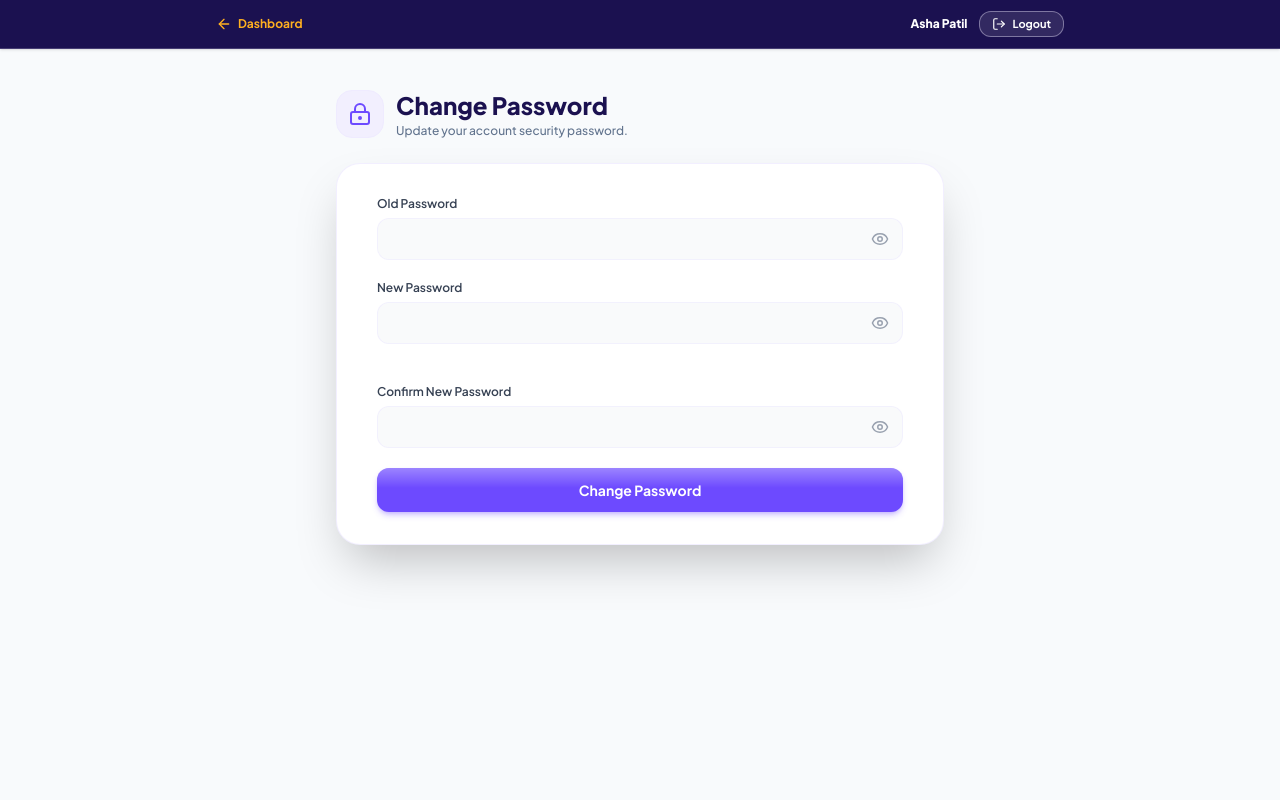
it: ChangePassword › shows an error dialog when the mutation fails
Step 1. Type "old-password" into the password field labelled "Old Password" → coordinates (640, 239), box [377, 218, 903, 260]
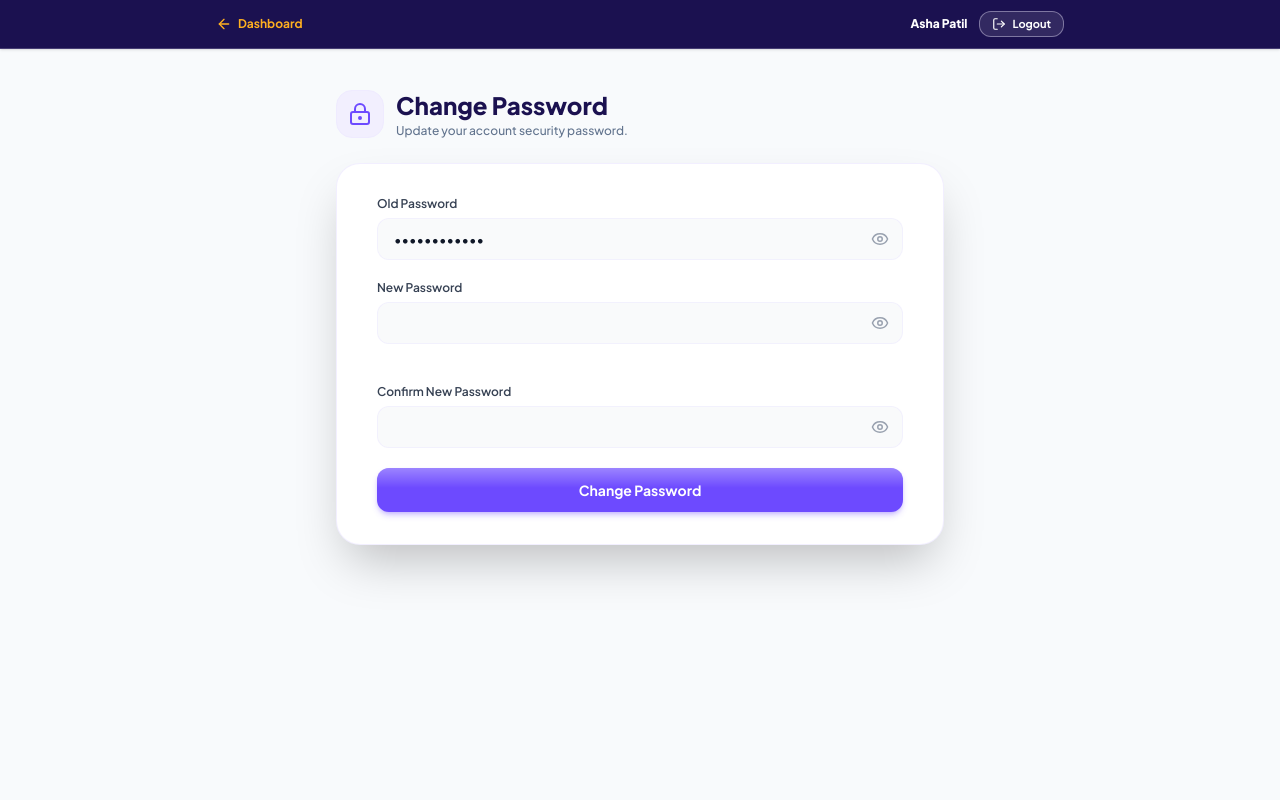
Step 2. Type "Strong1!" into the password field labelled "New Password" → coordinates (640, 323), box [377, 302, 903, 344]
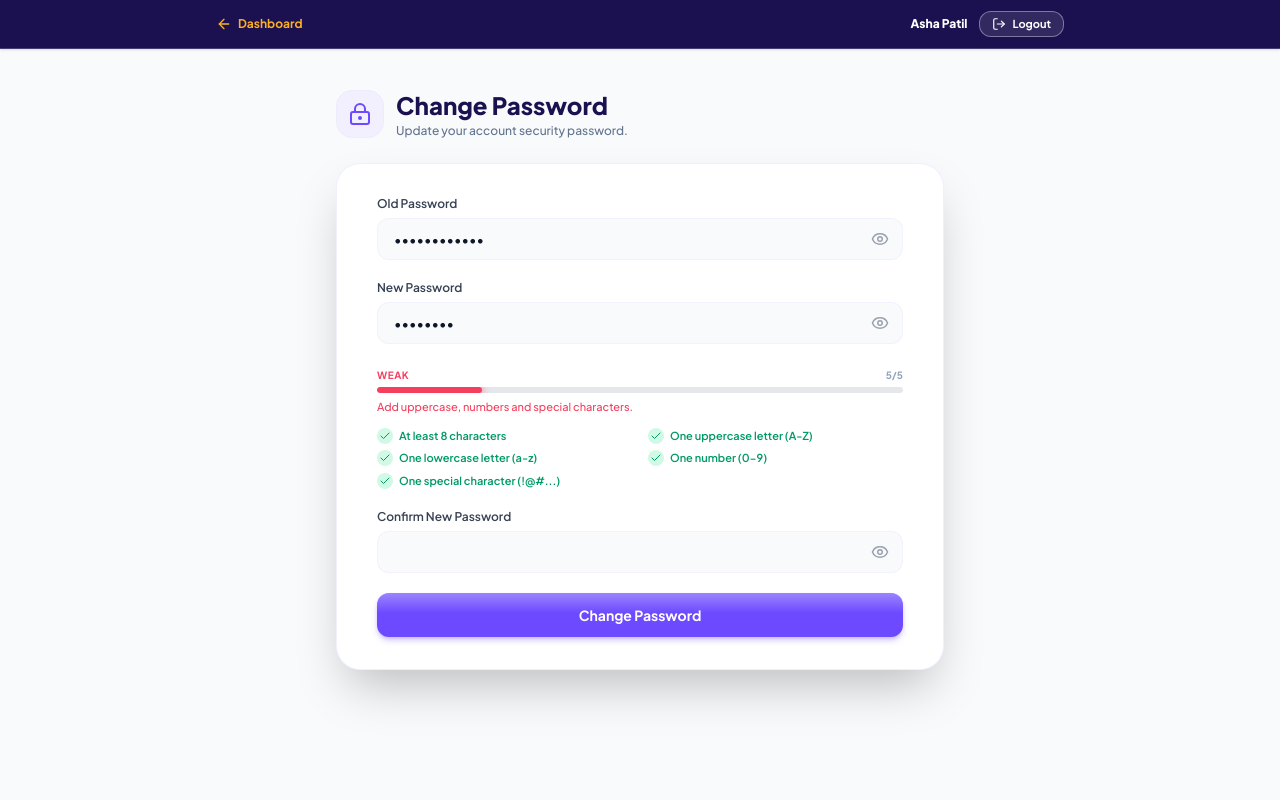
Step 3. Type "Strong1!" into the password field labelled "Confirm New Password" → coordinates (640, 552), box [377, 531, 903, 573]
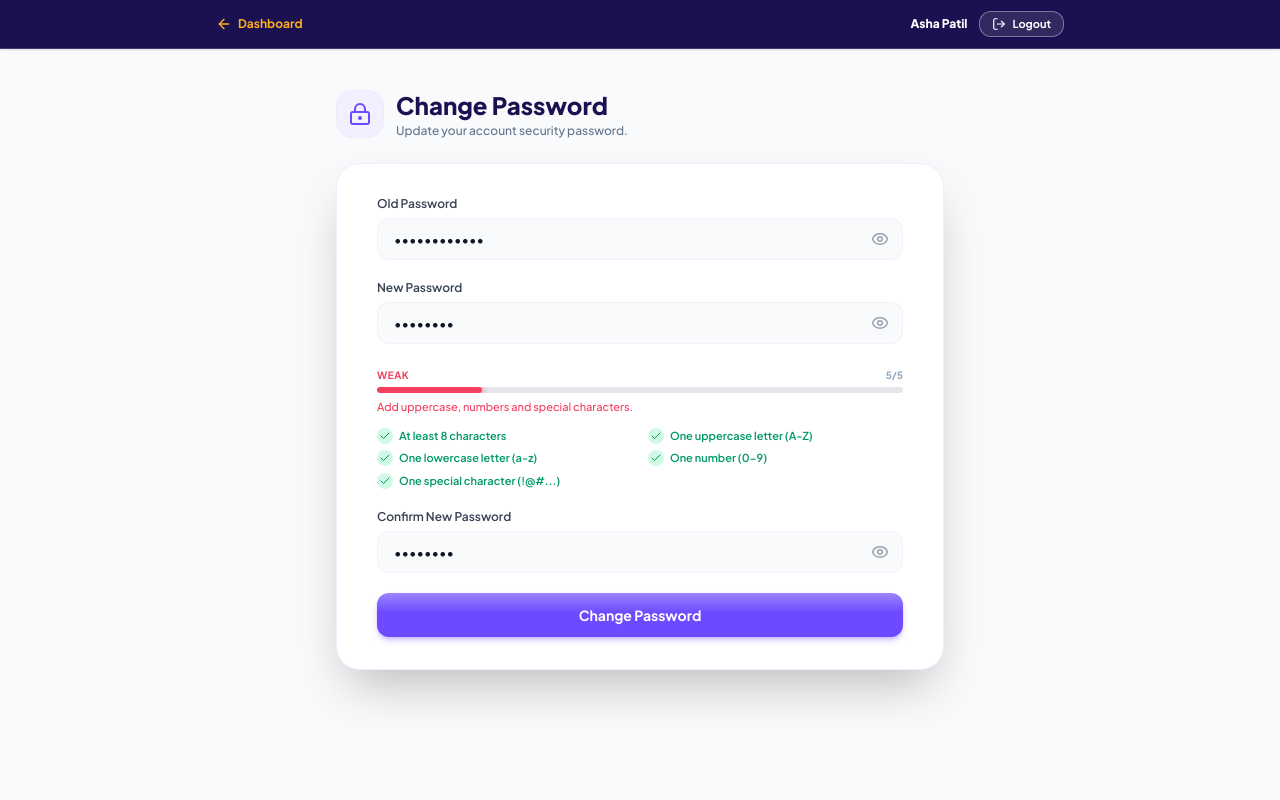
Step 4. Click the button "Change Password" → coordinates (640, 615), box [377, 593, 903, 637]
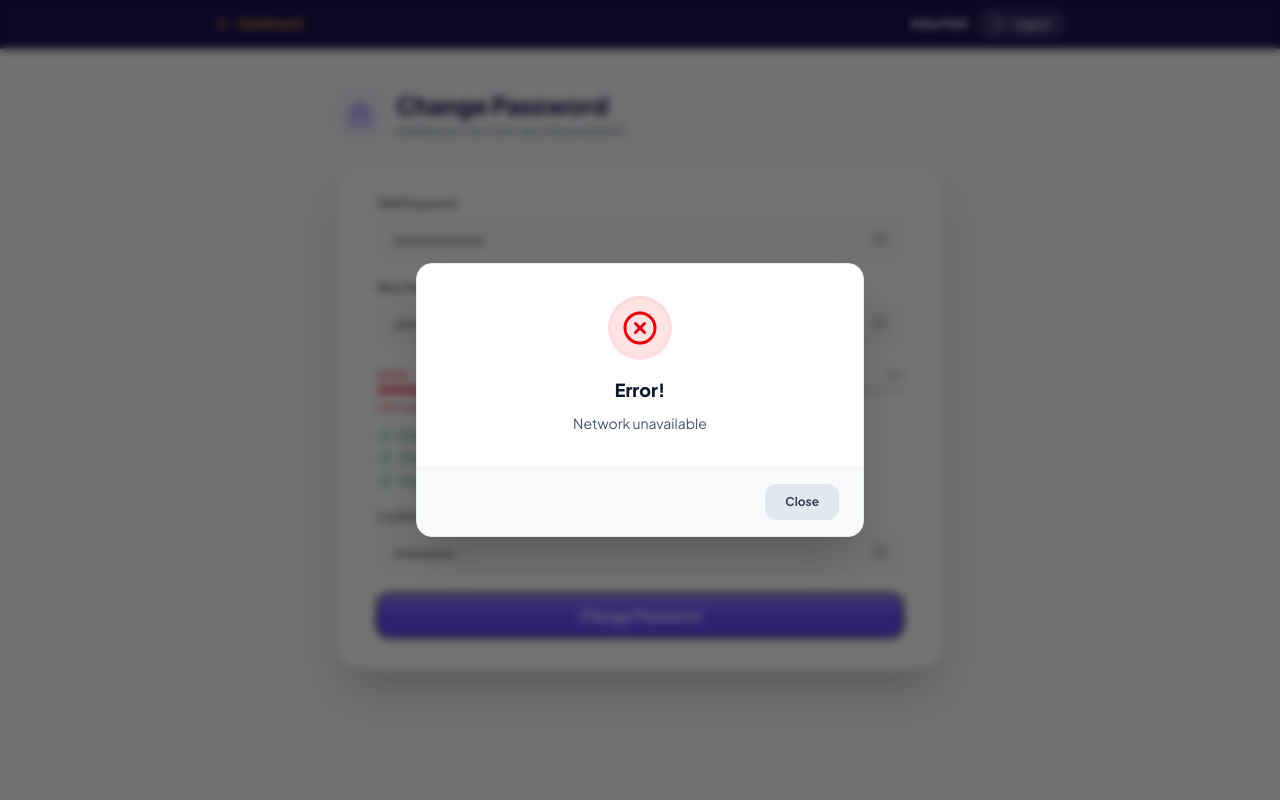
Expected: the heading "Error!" is shown, [615, 378, 665, 401]
Expected: the text "Network unavailable" is shown, [573, 414, 707, 432]
